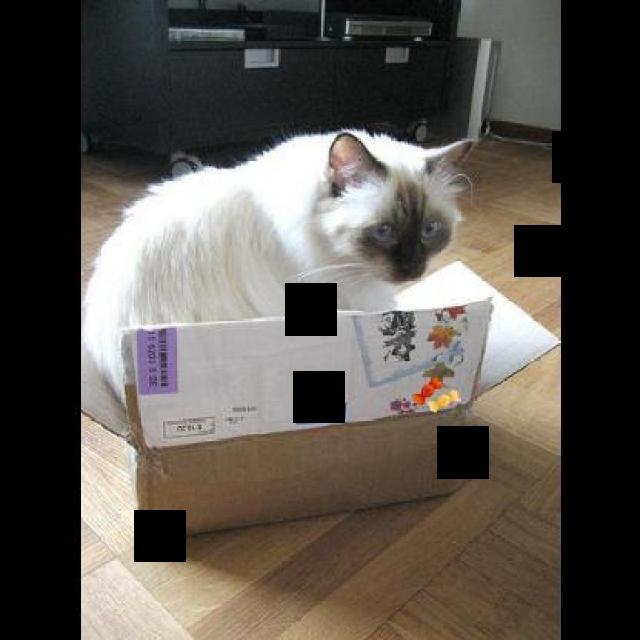unauthorized: (80, 126, 475, 414)
